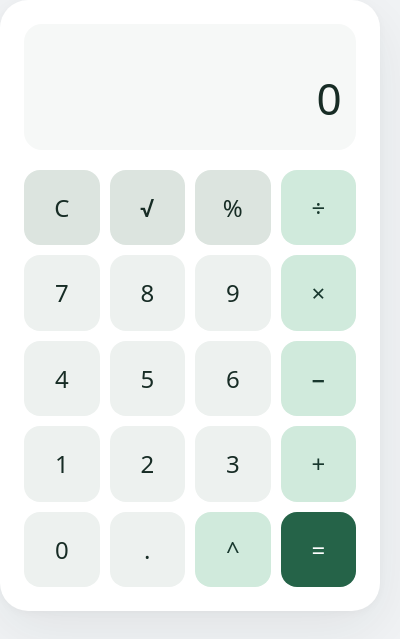
Scenario: UI3 addition
Click the button "2" at (147, 464), box [110,426,185,502]
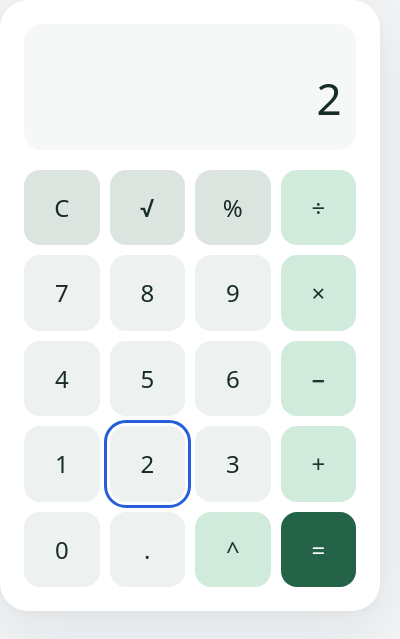
Click the button named "Add" at (318, 464), box [280,426,356,502]
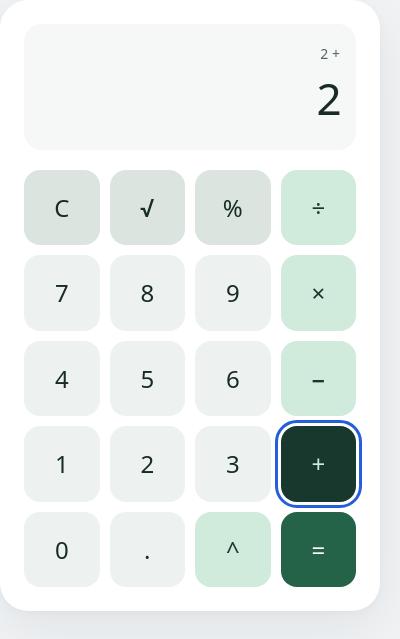
Click the button "3" at (233, 464), box [195,426,270,502]
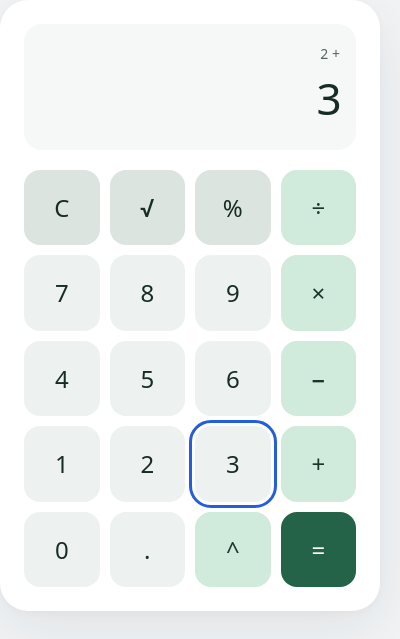
Click the button named "Equals" at (318, 549), box [280,512,356,587]
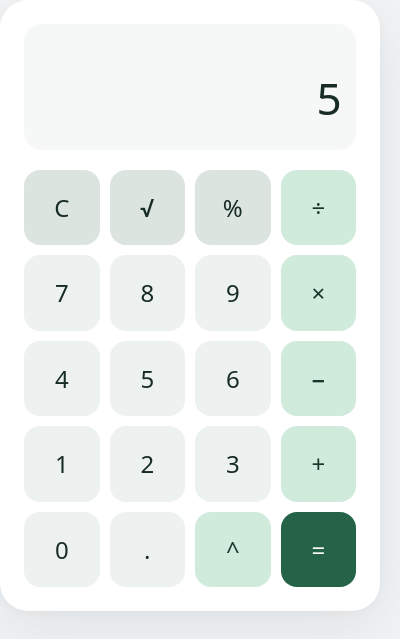
Now the message reads "5", box [317,68,340,128]
